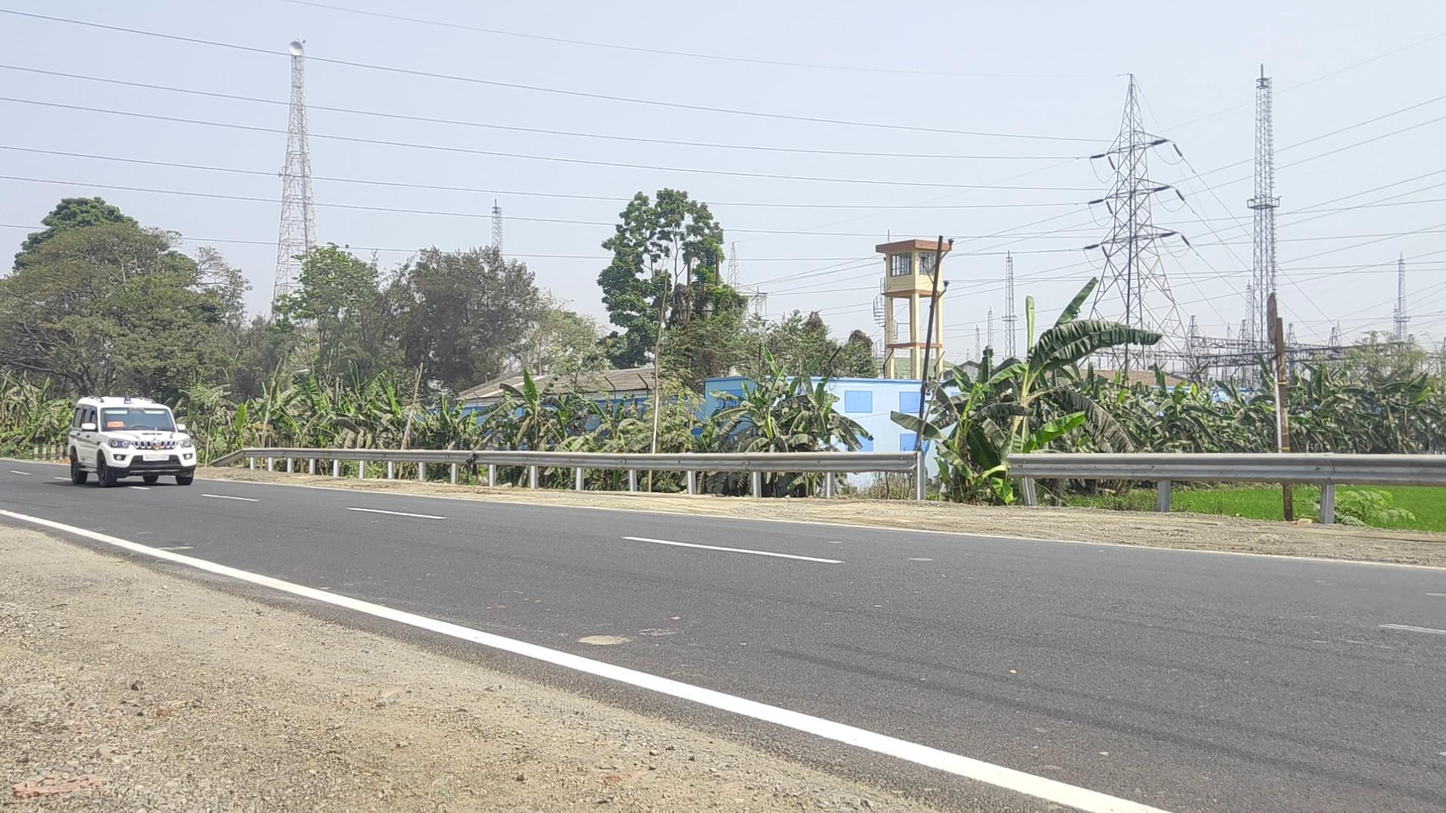car: (67, 395, 197, 488)
